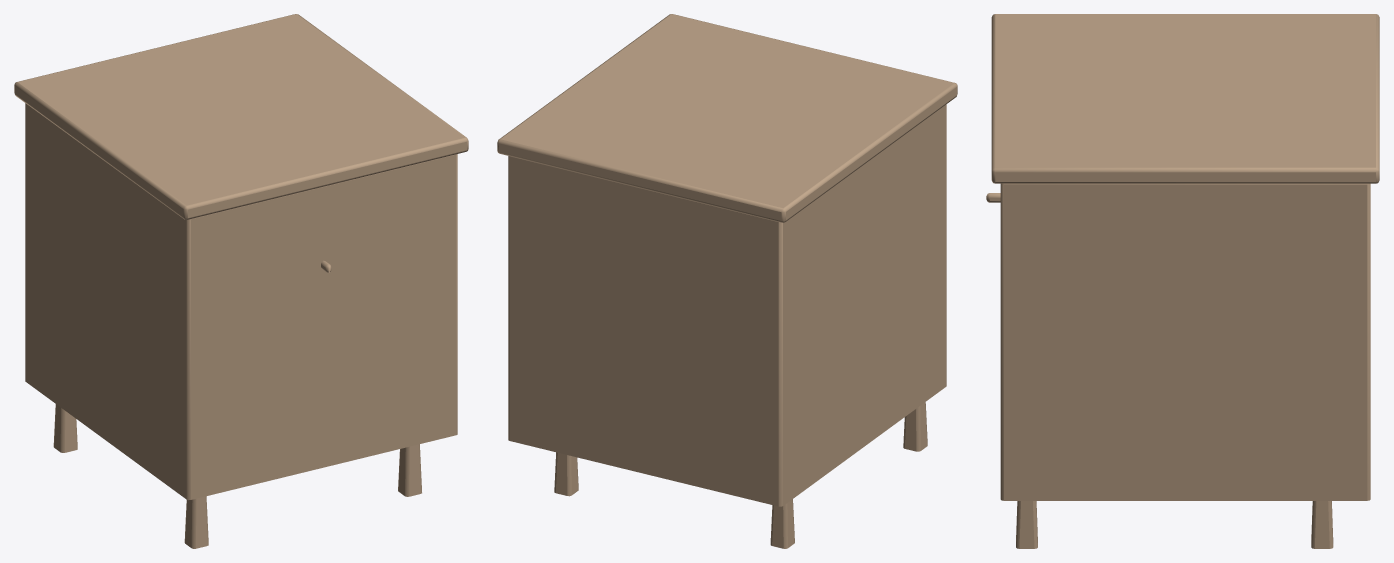
Rendered from TuDauGiuong.glb.
The picture shows the model from 3 angles, left to right: view 1: azimuth 30°, elevation 25°; view 2: azimuth 150°, elevation 25°; view 3: azimuth 270°, elevation 25°; orthographic projection. The views are drawn at different scales.
Parts seen in each view (by area): view 1: geometry_0; view 2: geometry_0; view 3: geometry_0.
Part boxes in pixels (box(x1,y1,x2,y2)): geometry_0: box(14, 14, 468, 548); geometry_0: box(497, 14, 957, 548); geometry_0: box(986, 14, 1379, 548).
Bounding box in the file's own units: 0.42 × 0.5 × 0.446.
